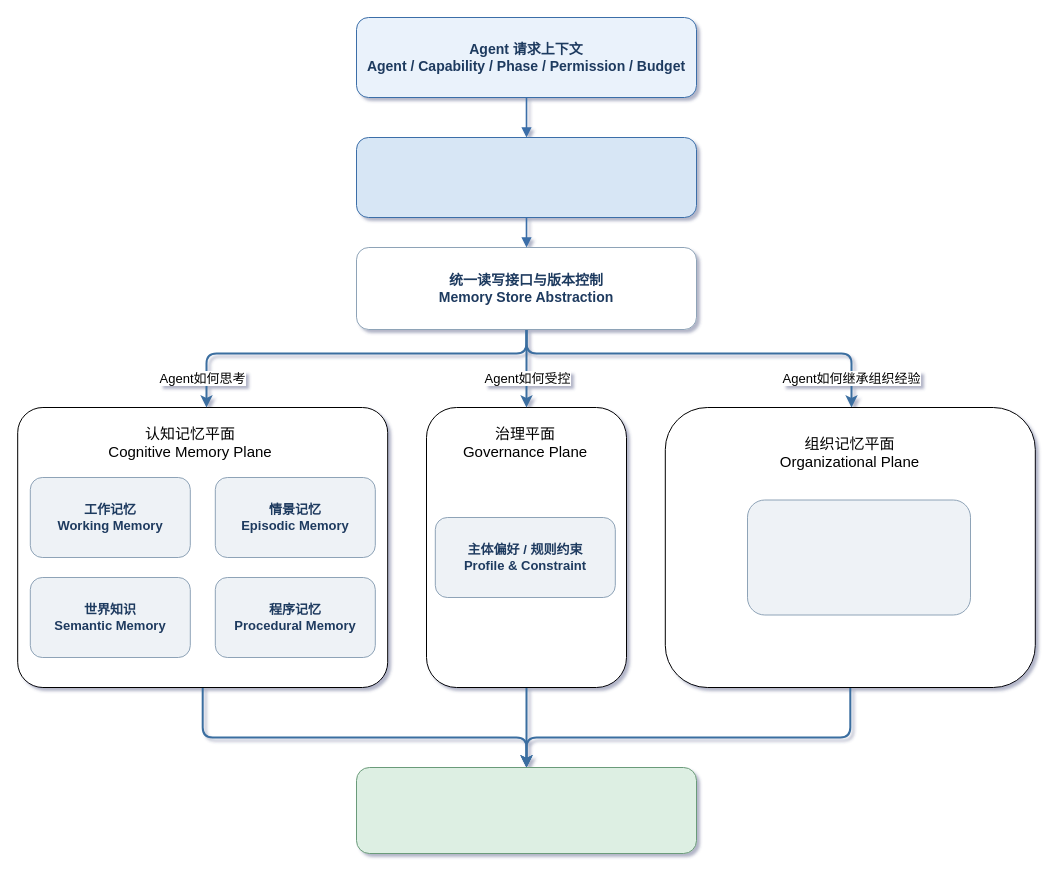
This 1059x877 diagram has some shape labels left out. Here are the shapes that lost their labels. From the top down, the centre of each, then its label:
point (526, 177): 记忆调度器(Memory Manager) 检索 · 过滤 · 去重 · 排序 · 裁剪 · 组装
point (858, 557): 组织经验/团队规范/最佳实践 Organizational Memory
point (526, 810): Context Pack 按节点生成的最小充分上下文
